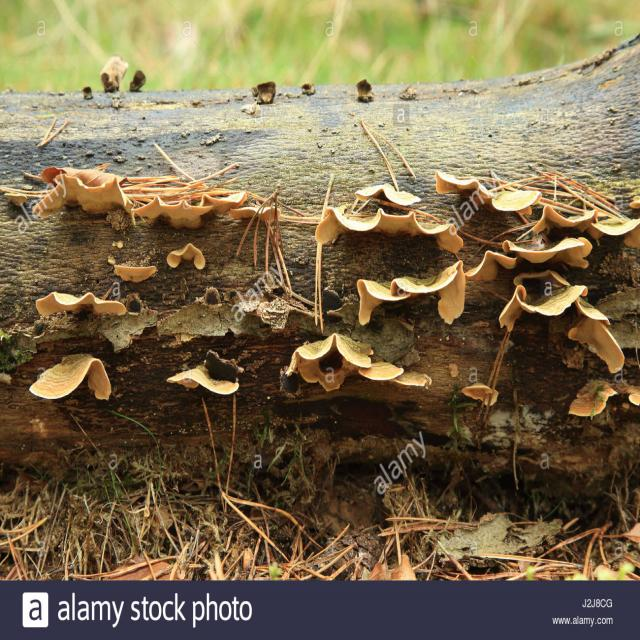green waste: (2, 32, 639, 572)
